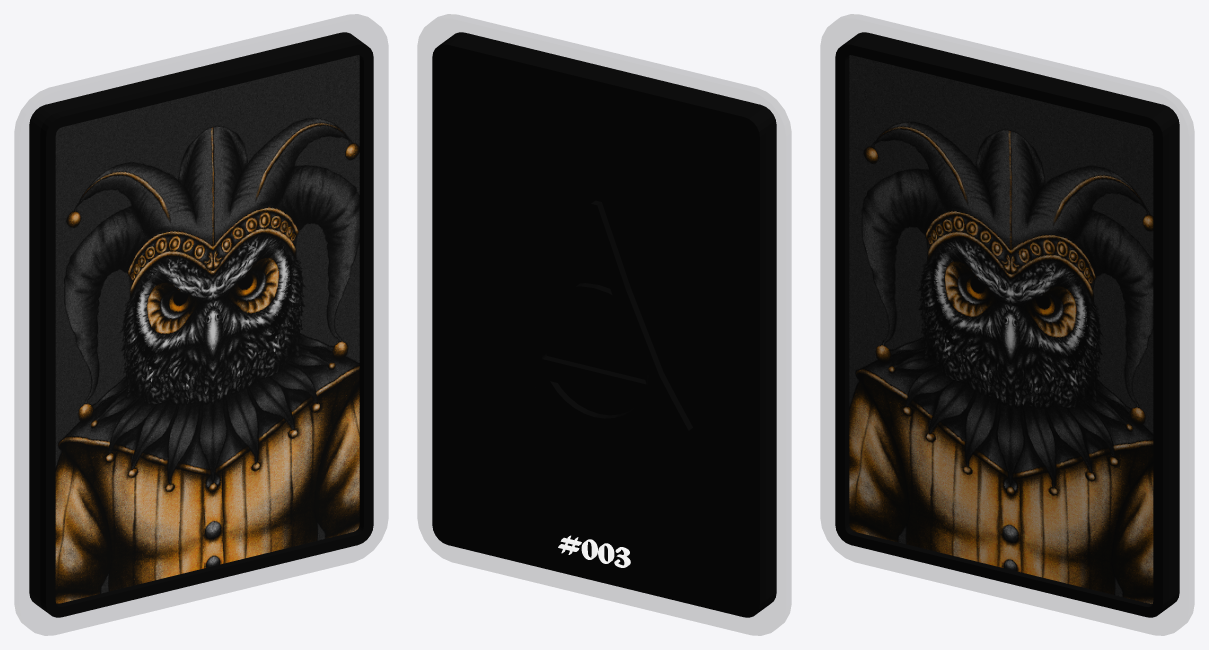
The picture shows the model from 3 angles, left to right: view 1: azimuth 30°, elevation 25°; view 2: azimuth 150°, elevation 25°; view 3: azimuth 330°, elevation 25°; orthographic projection.
Parts seen in each view (by area): view 1: Card.147, CardBorder.147; view 2: Card.147, CardBorder.147, Площина.040, Текст; view 3: Card.147, CardBorder.147.
Part boxes in pixels (left/top/right/bottom): Card.147: left=29, top=32, right=373, bottom=617; CardBorder.147: left=15, top=14, right=387, bottom=635; Card.147: left=432, top=32, right=776, bottom=617; CardBorder.147: left=418, top=14, right=790, bottom=635; Площина.040: left=500, top=200, right=692, bottom=436; Текст: left=558, top=535, right=630, bottom=567; Card.147: left=835, top=32, right=1179, bottom=617; CardBorder.147: left=821, top=14, right=1193, bottom=635.
Size of the model in its own units: 1.1 by 1.55 by 0.1091.
Materials: 5 (1 with a texture image).
